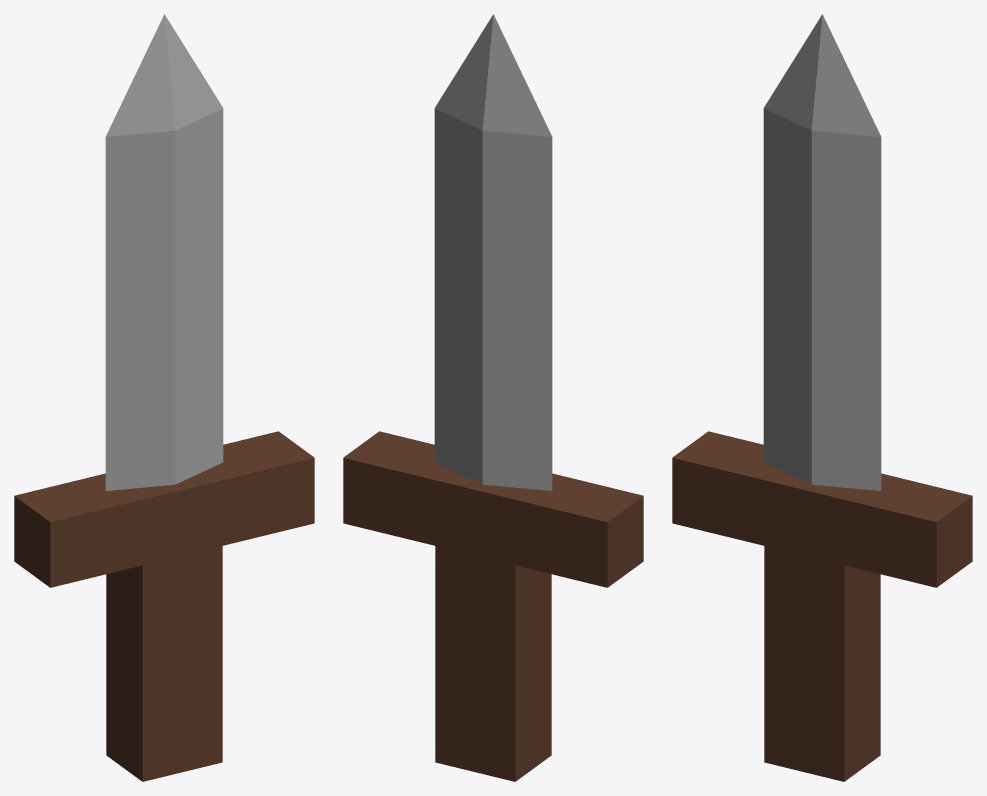
File: knife.fbx
3 views of the same model, side by side, from view 1: azimuth 30°, elevation 25°; view 2: azimuth 150°, elevation 25°; view 3: azimuth 330°, elevation 25° (orthographic).
Visible parts, largest first — view 1: Cube; view 2: Cube; view 3: Cube.
Boxes of the visible parts, left/top/right/bottom form: Cube: left=14, top=14, right=314, bottom=781; Cube: left=343, top=14, right=643, bottom=781; Cube: left=672, top=14, right=972, bottom=781.
Bounding box in the file's own units: 100 × 270 × 23.77.
